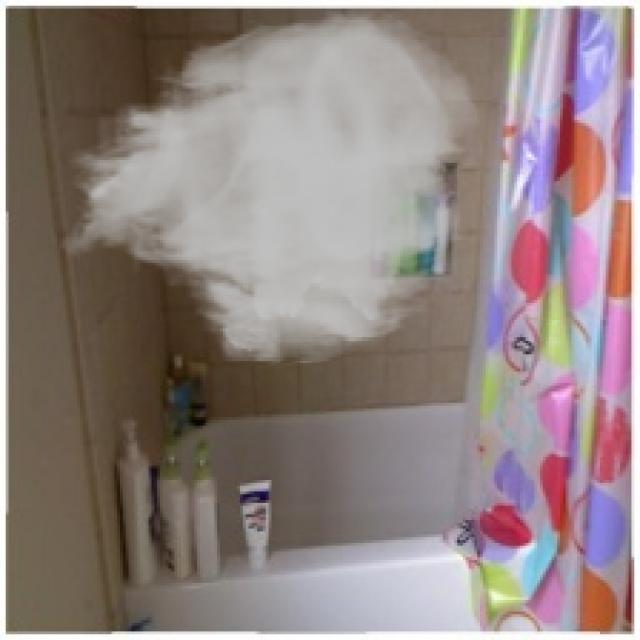smoke: (57, 6, 483, 368)
